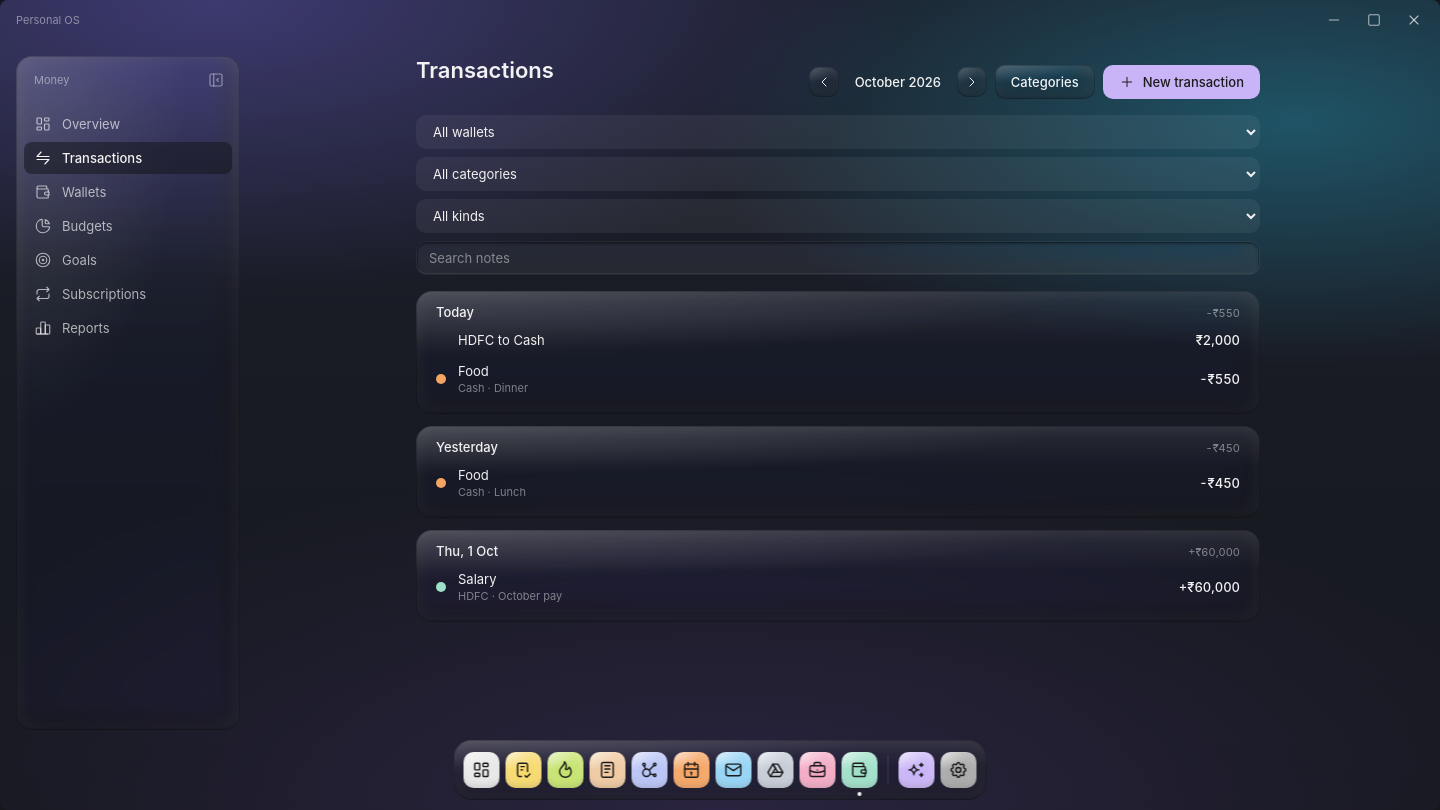
it: Transactions list › shows a transfer as "A to B" in the list of either wallet
Expected: the heading "Transactions" is shown, left=416, top=56, right=554, bottom=84
Expected: the element "Today" is shown, left=416, top=291, right=1260, bottom=414
Select "Cash" in the dropdown named "Wallet" at (838,132), box left=416, top=115, right=1260, bottom=149
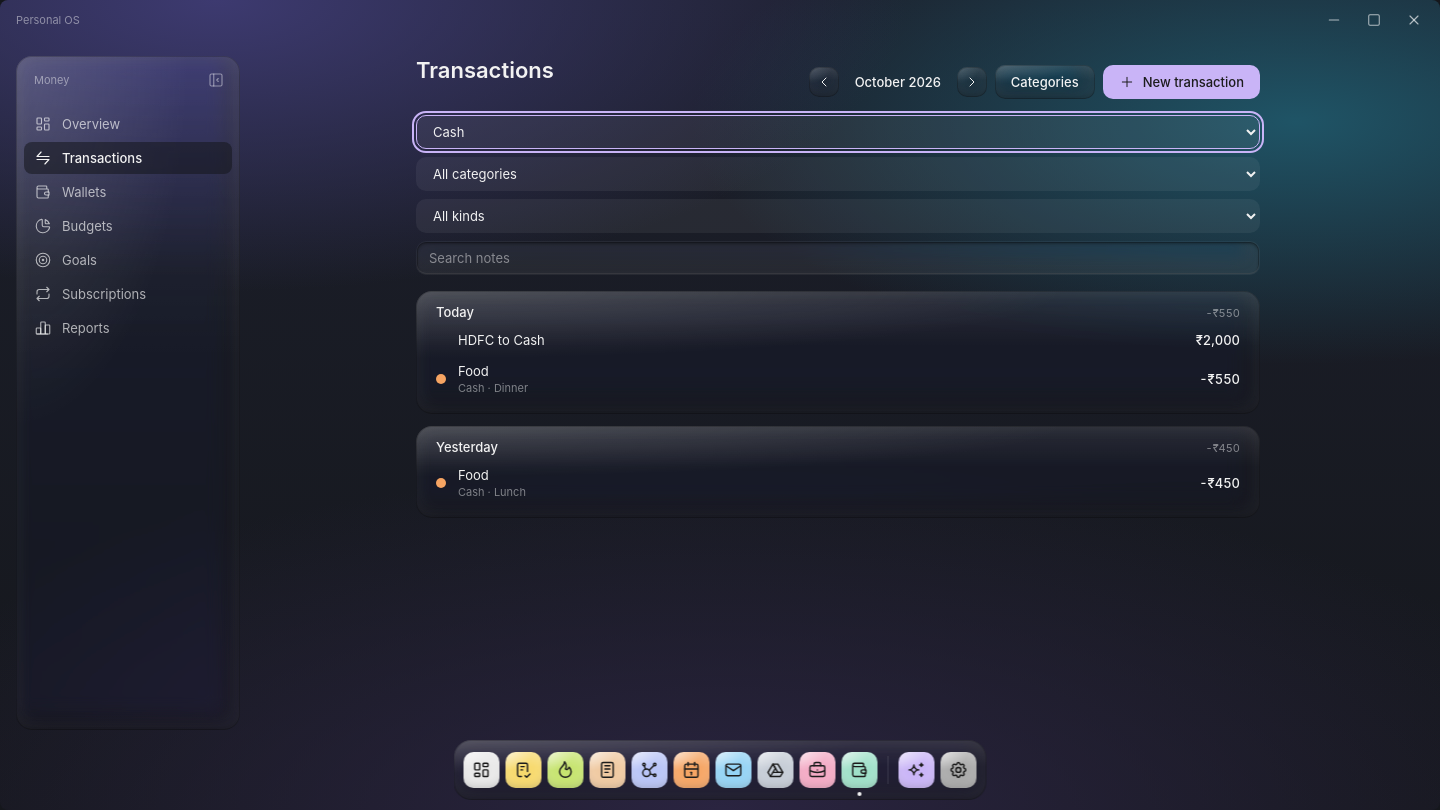
Expected: the button with aria-label "Edit HDFC to Cash" is shown, left=428, top=325, right=1248, bottom=356
Select "HDFC" in the dropdown named "Wallet" at (838,132), box left=416, top=115, right=1260, bottom=149
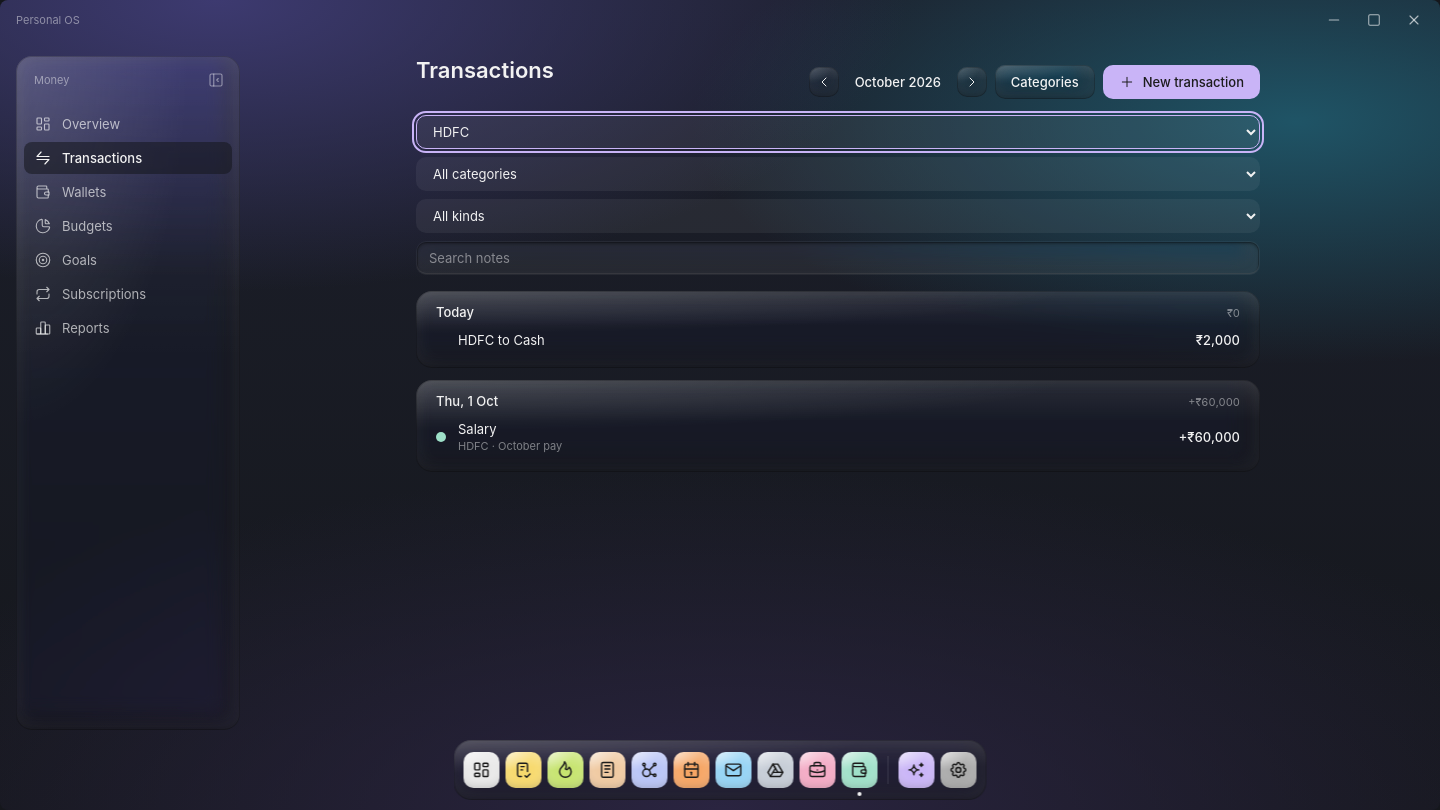
Expected: the button with aria-label "Edit HDFC to Cash" is shown, left=428, top=325, right=1248, bottom=356
Result: the button "Lunch" is gone
